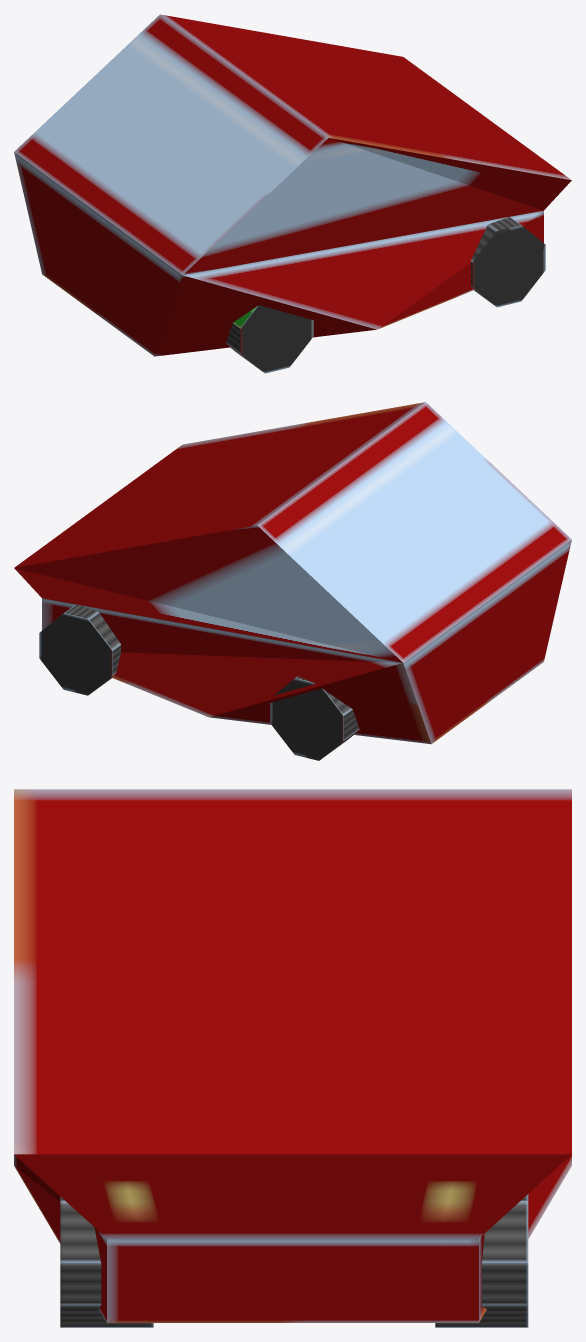
The model's file is RedCaar.obj.
3 renders of one model, top to bottom at view 1: azimuth 30°, elevation 25°; view 2: azimuth 150°, elevation 25°; view 3: azimuth 270°, elevation 25°, orthographic. The views are drawn at different scales.
Parts seen in each view (by area): view 1: RedCaar; view 2: RedCaar; view 3: RedCaar.
Part boxes in pixels (x1,y1,x2,y2): RedCaar: [14, 14, 571, 373]; RedCaar: [14, 402, 571, 760]; RedCaar: [14, 789, 571, 1327].
Bounding box in the file's own units: 2 × 1.1 × 1.5.
1 material, 1 textured.
